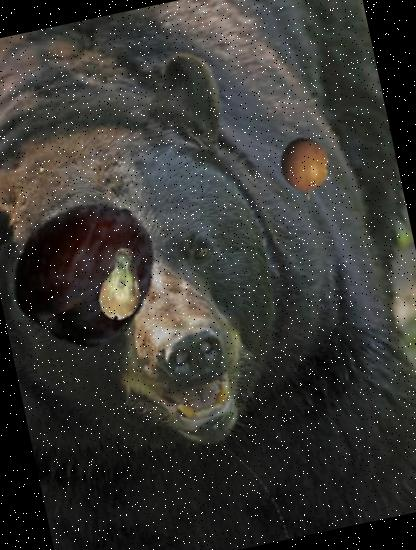Cactus: (76, 240, 163, 328)
Granadilla: (261, 130, 346, 214)
Plum: (0, 183, 172, 357)
